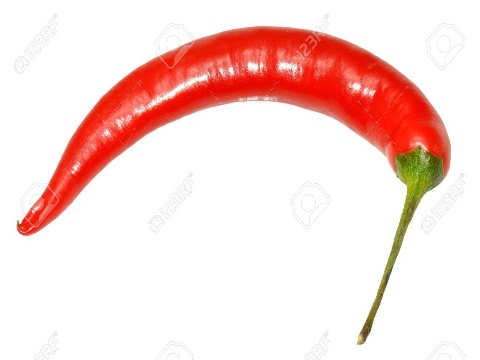Chilli: (14, 17, 462, 274)
